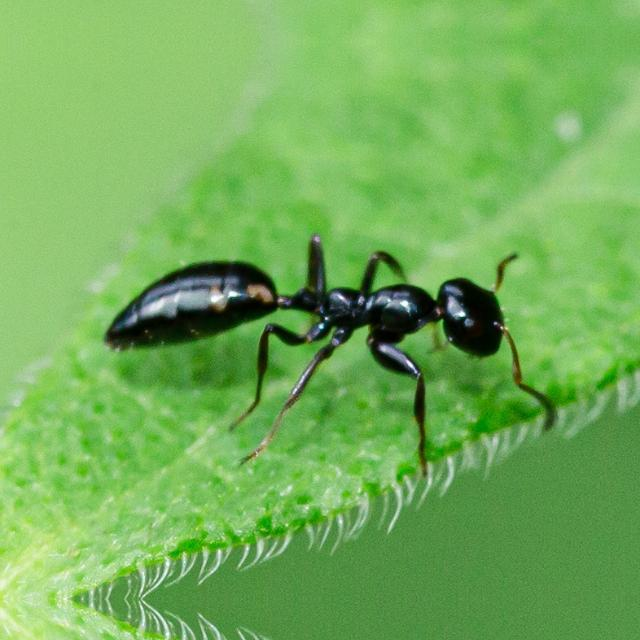Colobopsis: (91, 212, 563, 414)
